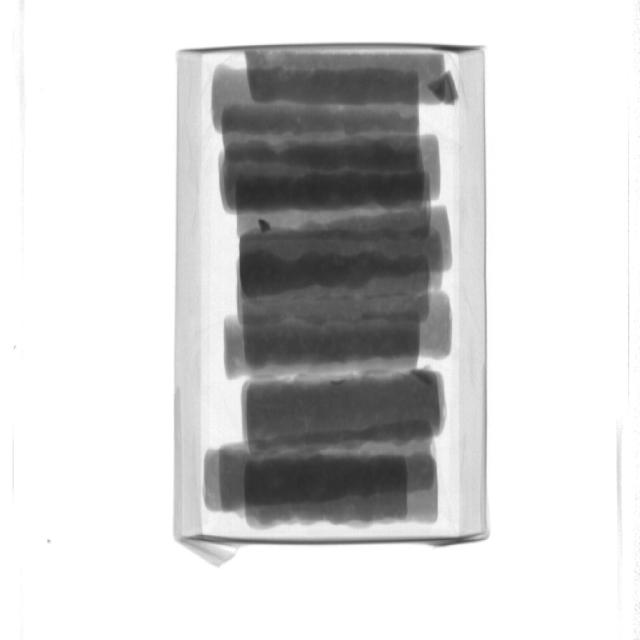ym: (428, 72, 462, 107), (259, 217, 274, 234)
